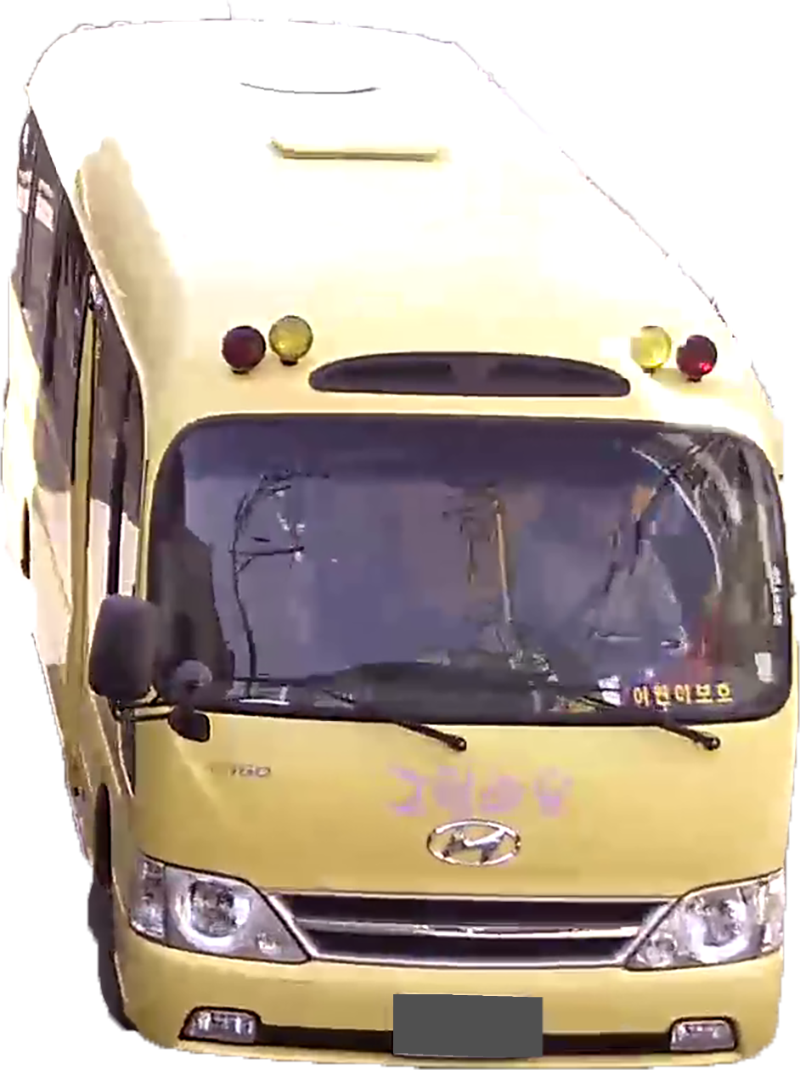P1_: (541, 999, 550, 1004)
bbox: (393, 992, 542, 1070)
